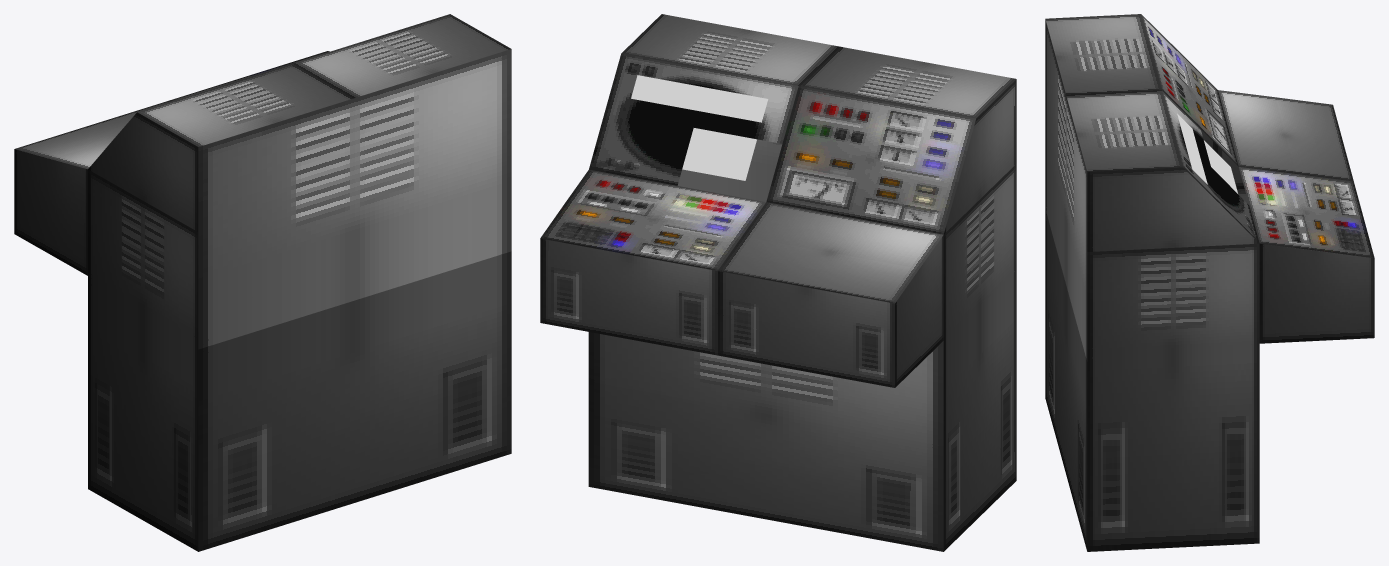
The model's file is primary_063.glb.
3 renders of one model, left to right at view 1: azimuth 30°, elevation 25°; view 2: azimuth 150°, elevation 25°; view 3: azimuth 270°, elevation 25°, orthographic. The views are drawn at different scales.
Visible parts, largest first — view 1: Object; view 2: Object; view 3: Object.
Boxes of the visible parts, <box> form: Object: <box>14,14,511,551</box>; Object: <box>540,14,1016,551</box>; Object: <box>1045,14,1374,551</box>.
Size of the model in its own units: 1.19 by 1.25 by 0.985.
24 materials, 24 textured.
